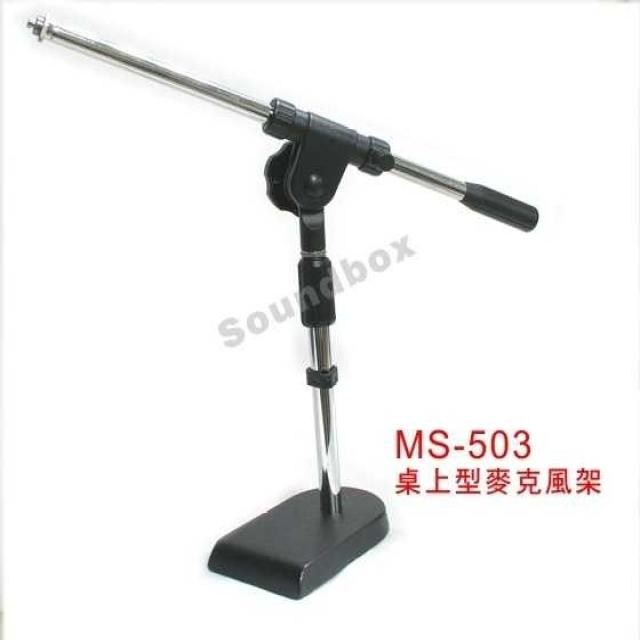microphone: (422, 136, 582, 272)
